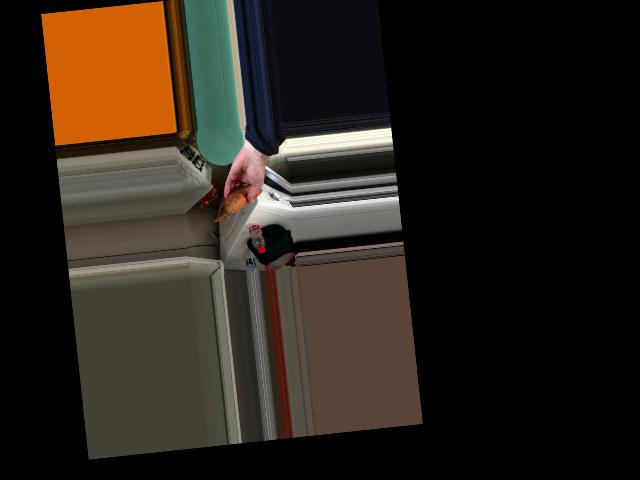sweet_potato: (224, 179, 259, 214)
